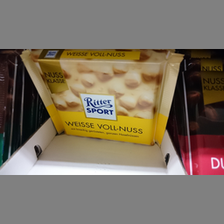chocolate: (21, 52, 180, 143)
